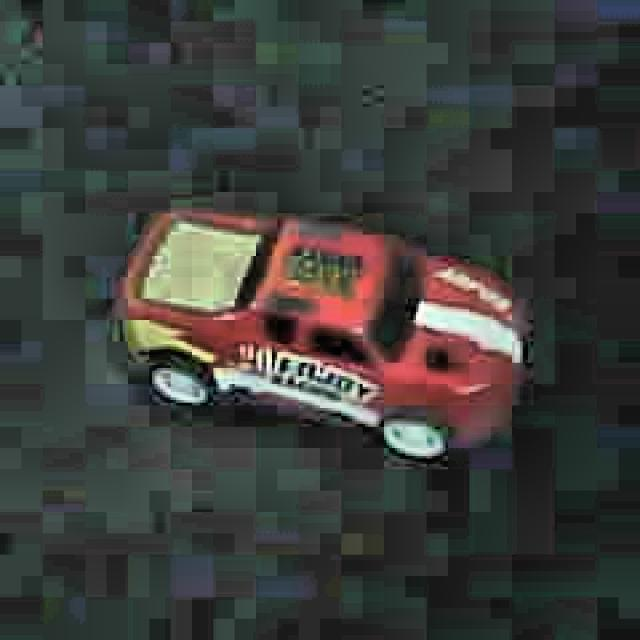car: (114, 200, 526, 466)
